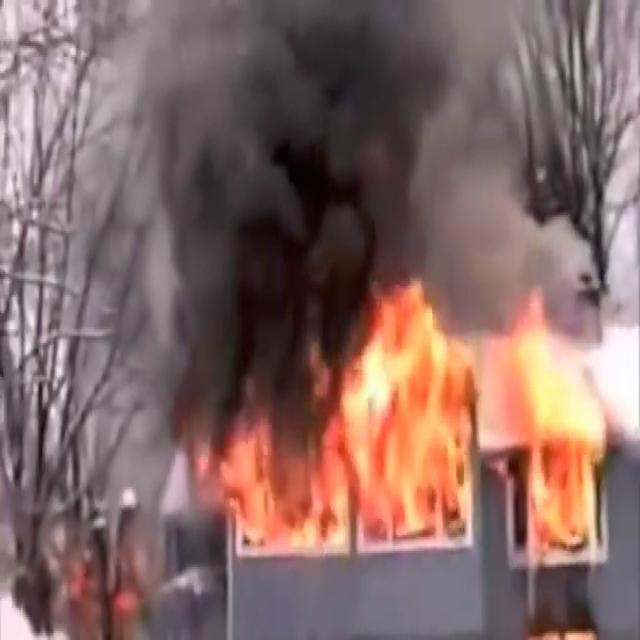Fire: (201, 269, 614, 568), (500, 304, 612, 564)
Smoke: (126, 0, 589, 354)
